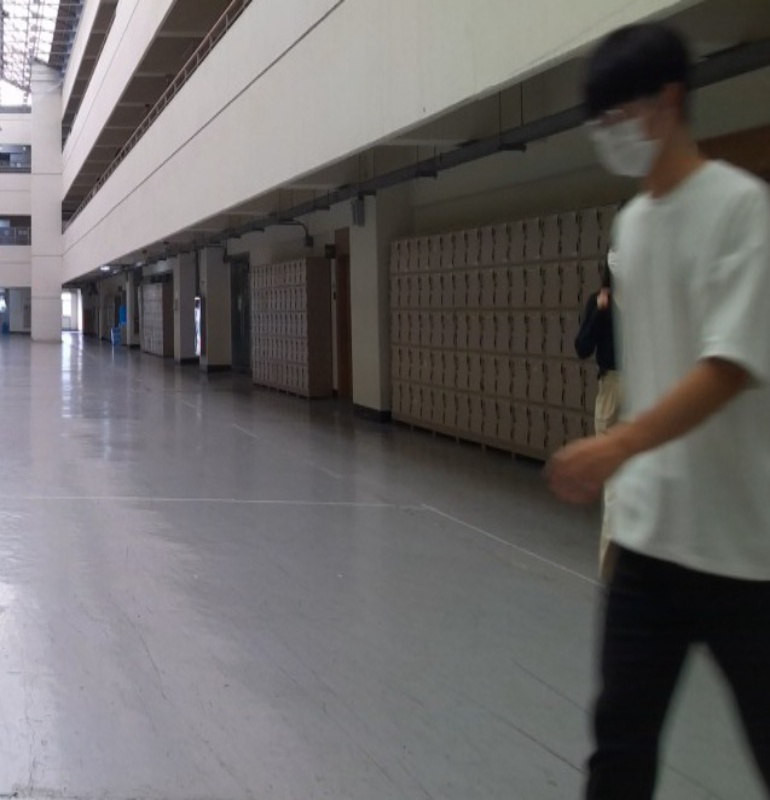person: (550, 21, 770, 800)
